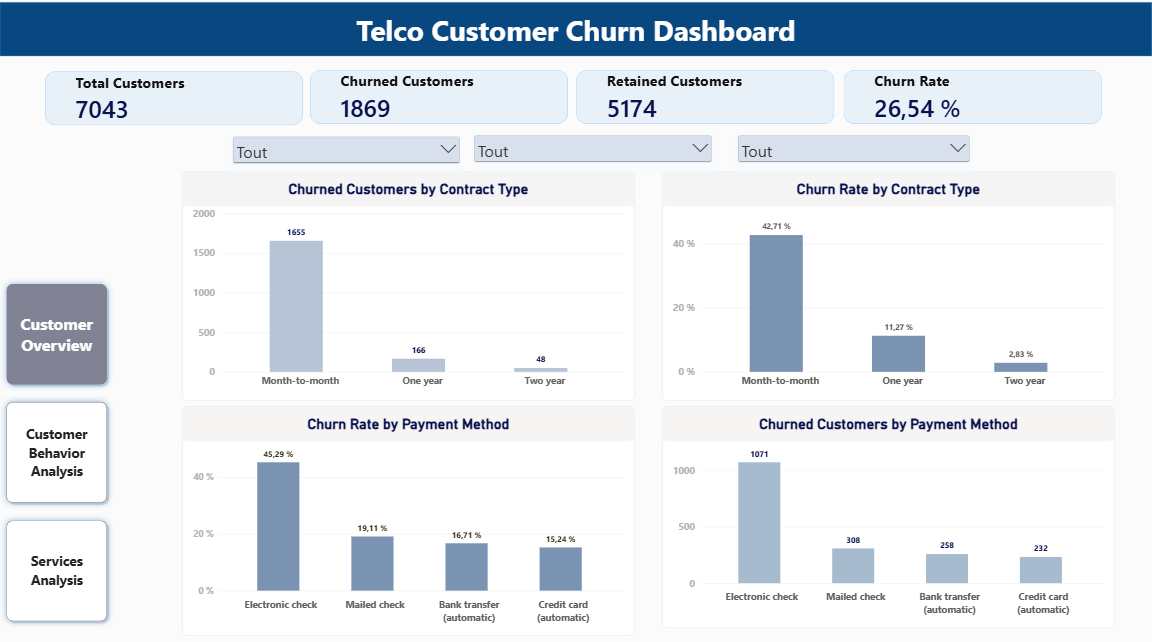

Layout of this report page (visuals, bound fields, positions):
{"tool":"powerbi","page":{"name":"Customer Overview","canvas":[1920,1080],"ordinal":0},"visuals":[{"type":"cardVisual","fields":{"Data":["Telco-Customer-Churn.Churned Customers"]},"box":[516.7,116.7,430,90],"z":0},{"type":"shape","box":[0,3.6,1919.7,89.3],"z":1000},{"type":"clusteredColumnChart","title":"Churned Customers by Contract Type","fields":{"Category":["Telco-Customer-Churn.Contract"],"Y":["Telco-Customer-Churn.Churned Customers"]},"box":[303.6,285.7,753.6,382.1],"z":2000},{"type":"clusteredColumnChart","title":"Churn Rate by Contract Type","fields":{"Category":["Telco-Customer-Churn.Contract"],"Y":["Telco-Customer-Churn.Churn Rate"]},"box":[1103.6,285.7,753.6,382.1],"z":3000},{"type":"clusteredColumnChart","title":"Churned Customers by Payment Method","fields":{"Category":["Telco-Customer-Churn.PaymentMethod"],"Y":["Telco-Customer-Churn.Churned Customers"]},"box":[1103.6,676.8,753.6,369.6],"z":4000},{"type":"clusteredColumnChart","title":"Churn Rate by Payment Method","fields":{"Category":["Telco-Customer-Churn.PaymentMethod"],"Y":["Telco-Customer-Churn.Churn Rate"]},"box":[303.6,676.8,753.6,382.1],"z":5000},{"type":"cardVisual","fields":{"Data":["Telco-Customer-Churn.Total Customers"]},"box":[75,117.9,430,90],"z":6000},{"type":"cardVisual","fields":{"Data":["Telco-Customer-Churn.Retained Customers"]},"box":[960.7,116.1,430,90],"z":7000},{"type":"cardVisual","fields":{"Data":["Telco-Customer-Churn.Churn Rate"]},"box":[1405.4,116.1,430,90],"z":8000},{"type":"slicer","fields":{"Values":["Telco-Customer-Churn.Contract"]},"box":[384,222,388,64],"z":9000},{"type":"slicer","fields":{"Values":["Telco-Customer-Churn.PaymentMethod"]},"box":[786,220,406,66],"z":10000},{"type":"slicer","fields":{"Values":["Telco-Customer-Churn.Senior Status"]},"box":[1224,220,396,66],"z":11000},{"type":"pageNavigator","box":[0,462.5,189.3,583.9],"z":12000}]}

Visuals, with their boxes in screenshot pixels (x1, y1, x2, y2), scaled from the page's 1920x1080 canvas onto the 1152x642 screenshot:
cardVisual - Telco-Customer-Churn.Churned Customers: {"left": 310, "top": 69, "right": 568, "bottom": 123}
shape: {"left": 0, "top": 2, "right": 1151, "bottom": 55}
"Churned Customers by Contract Type" clusteredColumnChart: {"left": 182, "top": 170, "right": 634, "bottom": 397}
"Churn Rate by Contract Type" clusteredColumnChart: {"left": 662, "top": 170, "right": 1114, "bottom": 397}
"Churned Customers by Payment Method" clusteredColumnChart: {"left": 662, "top": 402, "right": 1114, "bottom": 622}
"Churn Rate by Payment Method" clusteredColumnChart: {"left": 182, "top": 402, "right": 634, "bottom": 629}
cardVisual - Telco-Customer-Churn.Total Customers: {"left": 45, "top": 70, "right": 303, "bottom": 124}
cardVisual - Telco-Customer-Churn.Retained Customers: {"left": 576, "top": 69, "right": 834, "bottom": 123}
cardVisual - Telco-Customer-Churn.Churn Rate: {"left": 843, "top": 69, "right": 1101, "bottom": 123}
slicer - Telco-Customer-Churn.Contract: {"left": 230, "top": 132, "right": 463, "bottom": 170}
slicer - Telco-Customer-Churn.PaymentMethod: {"left": 472, "top": 131, "right": 715, "bottom": 170}
slicer - Telco-Customer-Churn.Senior Status: {"left": 734, "top": 131, "right": 972, "bottom": 170}
pageNavigator: {"left": 0, "top": 275, "right": 114, "bottom": 622}
